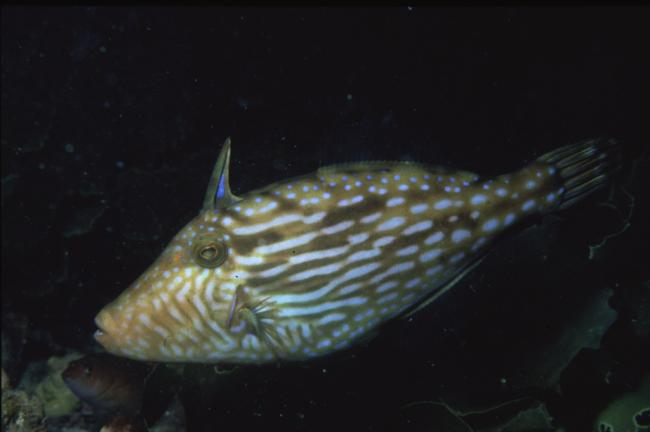fish: (94, 138, 611, 366)
